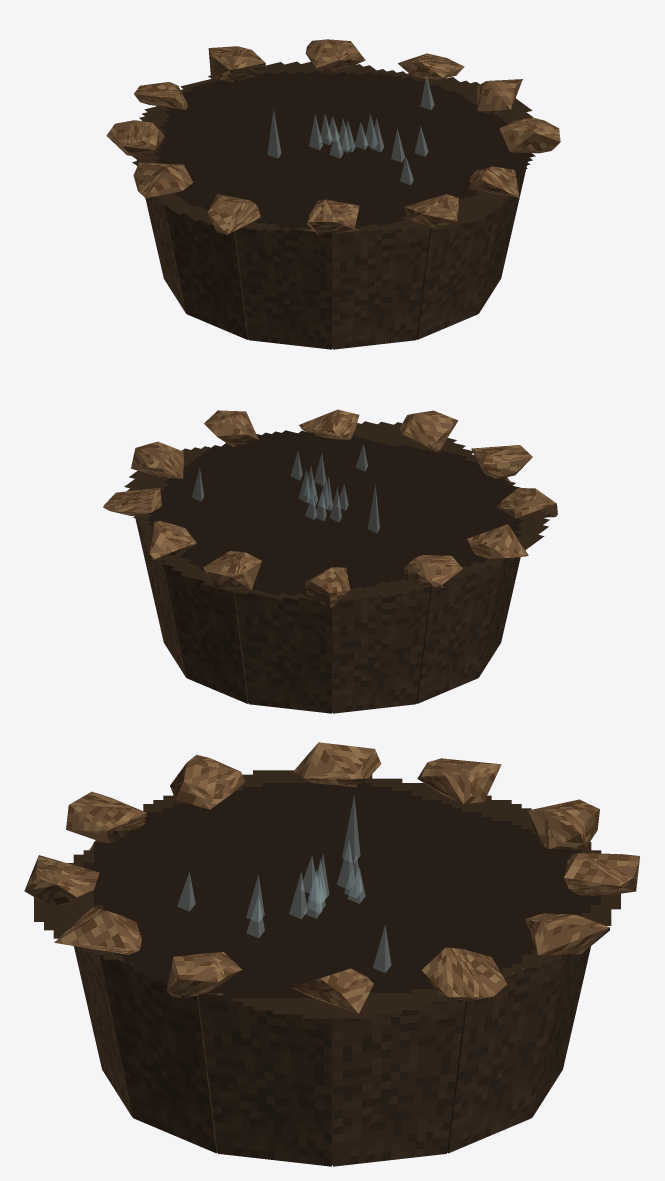
Rendered from tr_glass_pit.glb.
3 views of the same model, one above another, from view 1: azimuth 30°, elevation 25°; view 2: azimuth 150°, elevation 25°; view 3: azimuth 270°, elevation 25° (orthographic). The views are drawn at different scales.
Parts seen in each view (by area): view 1: block_hole, block_pit wall (×6), block_rim (×12); view 2: block_hole, block_pit wall (×6), block_rim (×12); view 3: block_hole, block_pit wall (×6), block_rim (×12), block_glass shard.
Part boxes in pixels (x1,y1,x2,y2): block_hole: [131, 61, 535, 231]; block_pit wall (×6): [136, 160, 527, 349]; block_rim (×12): [106, 39, 560, 235]; block_hole: [124, 421, 549, 601]; block_pit wall (×6): [135, 518, 520, 713]; block_rim (×12): [103, 409, 557, 608]; block_hole: [34, 770, 620, 1018]; block_pit wall (×6): [74, 946, 590, 1166]; block_rim (×12): [24, 742, 639, 1013]; block_glass shard: [342, 795, 360, 863].
Size of the model in its own units: 1 by 0.4184 by 1.
Materials: 3 (3 with a texture image).
